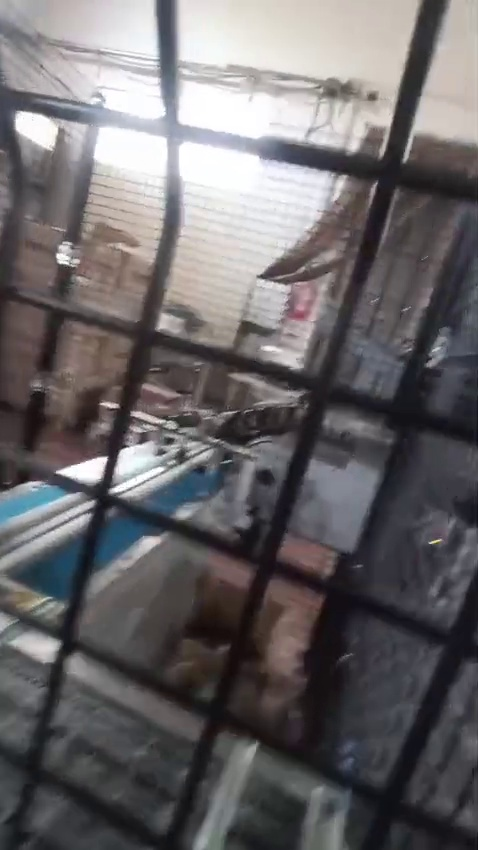savon: (78, 334, 130, 373), (194, 574, 240, 615), (183, 640, 222, 684), (256, 608, 273, 687), (58, 373, 80, 415), (88, 225, 122, 247), (86, 374, 118, 387), (12, 592, 34, 608), (349, 196, 364, 212), (136, 270, 150, 287), (244, 692, 256, 710)
